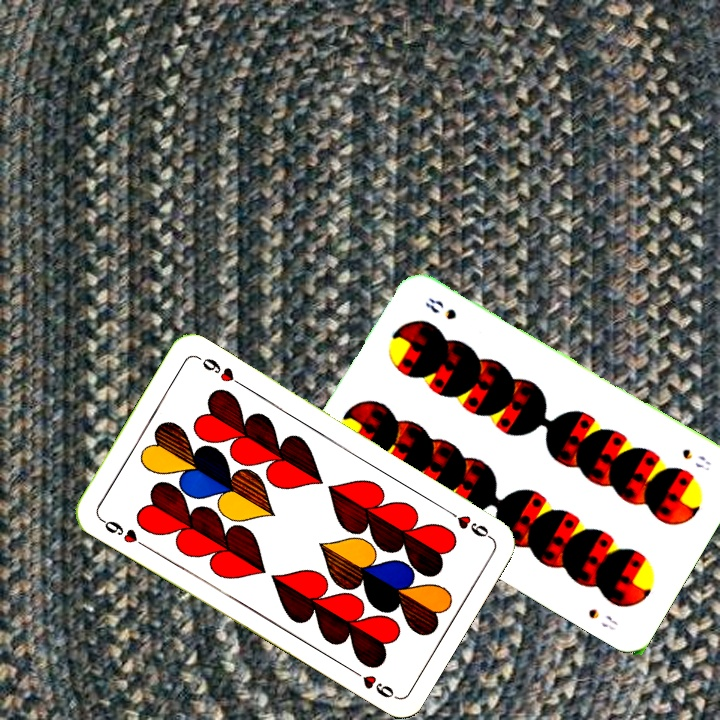H9: (96, 514, 149, 551), (440, 504, 493, 541)
S8: (678, 444, 714, 474)
